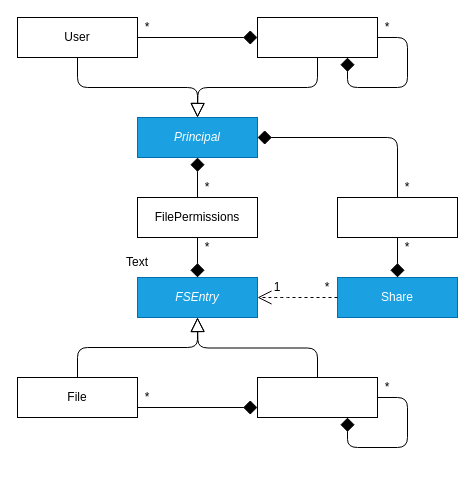
The diagram is 475 pixels wide and 479 high, and some of its shapes have lost their labels. The box of each missing label's shape, as (x1, y1, x2, y2) in pixels:
Folder: (256, 376, 378, 418)
Group: (256, 16, 378, 58)
SharePermissions: (336, 196, 458, 238)
